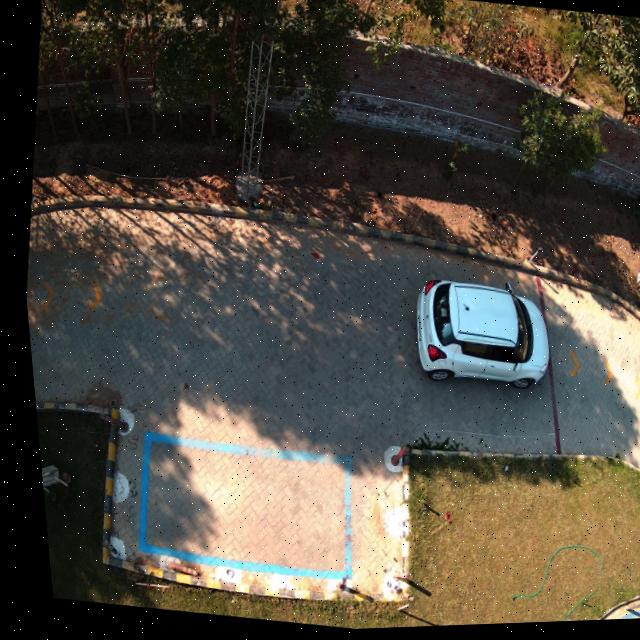car: (409, 284, 543, 394)
